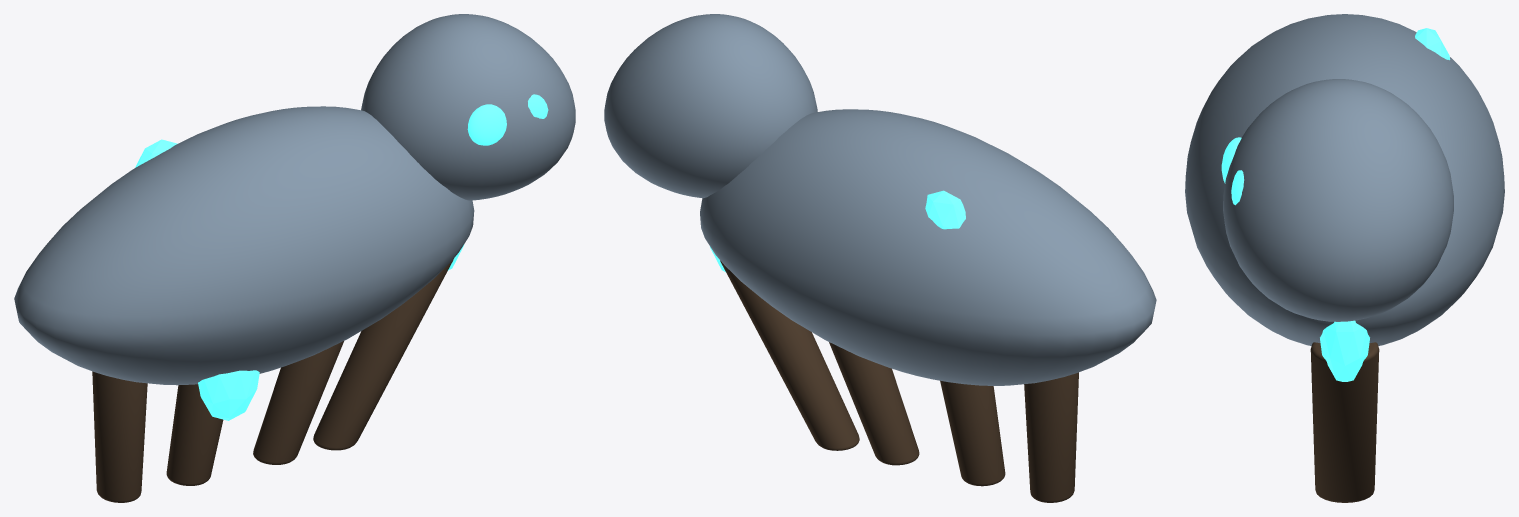
The model's file is beast_v7.glb.
3 views of the same model, side by side, from view 1: azimuth 30°, elevation 25°; view 2: azimuth 150°, elevation 25°; view 3: azimuth 270°, elevation 25° (orthographic). The views are drawn at different scales.
Parts seen in each view (by area): view 1: BODY_PRIMARY, HEAD_PRIMARY, LEG_SECONDARY.003, LEG_SECONDARY, LEG_SECONDARY.002, LEG_SECONDARY.001, ORBIT_SHARD_EMISSIVE.002, EYE_EMISSIVE; view 2: BODY_PRIMARY, HEAD_PRIMARY, LEG_SECONDARY.003, LEG_SECONDARY, LEG_SECONDARY.002, LEG_SECONDARY.001, ORBIT_SHARD_EMISSIVE.001; view 3: HEAD_PRIMARY, BODY_PRIMARY, LEG_SECONDARY.003, ORBIT_SHARD_EMISSIVE, ORBIT_SHARD_EMISSIVE.001, EYE_EMISSIVE.
Part boxes in pixels (left/top/right/bottom): BODY_PRIMARY: left=14, top=106, right=474, bottom=385; HEAD_PRIMARY: left=361, top=14, right=575, bottom=200; LEG_SECONDARY.003: left=313, top=258, right=453, bottom=450; LEG_SECONDARY: left=92, top=371, right=147, bottom=502; LEG_SECONDARY.002: left=253, top=341, right=343, bottom=464; LEG_SECONDARY.001: left=166, top=384, right=223, bottom=485; ORBIT_SHARD_EMISSIVE.002: left=198, top=370, right=259, bottom=420; EYE_EMISSIVE: left=467, top=104, right=506, bottom=145; BODY_PRIMARY: left=700, top=109, right=1156, bottom=385; HEAD_PRIMARY: left=604, top=14, right=817, bottom=198; LEG_SECONDARY.003: left=720, top=260, right=859, bottom=450; LEG_SECONDARY: left=1024, top=372, right=1078, bottom=502; LEG_SECONDARY.002: left=829, top=342, right=919, bottom=465; LEG_SECONDARY.001: left=940, top=380, right=1005, bottom=486; ORBIT_SHARD_EMISSIVE.001: left=925, top=190, right=965, bottom=229; HEAD_PRIMARY: left=1223, top=79, right=1453, bottom=321; BODY_PRIMARY: left=1185, top=14, right=1504, bottom=345; LEG_SECONDARY.003: left=1310, top=342, right=1379, bottom=502; ORBIT_SHARD_EMISSIVE: left=1320, top=320, right=1369, bottom=381; ORBIT_SHARD_EMISSIVE.001: left=1415, top=28, right=1450, bottom=60; EYE_EMISSIVE: left=1221, top=137, right=1241, bottom=183.
Bounding box in the file's own units: 2.42 × 1.68 × 1.02.
